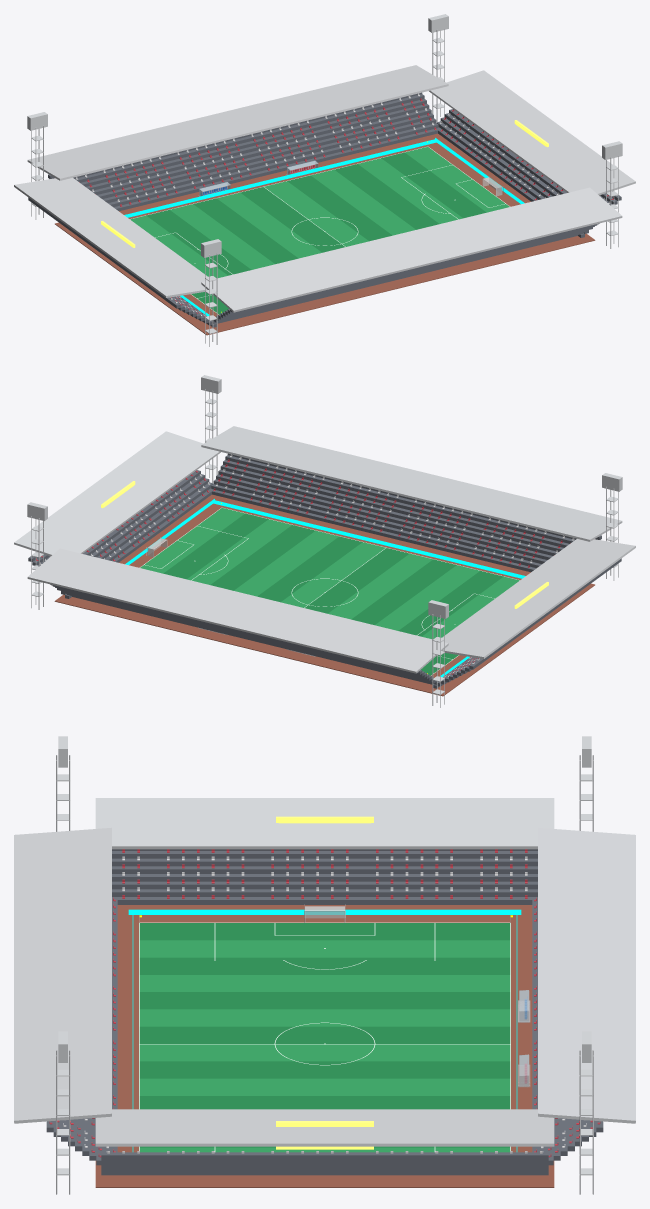
File: dynamic_field_football.glb
3 renders of one model, top to bottom at view 1: azimuth 30°, elevation 25°; view 2: azimuth 150°, elevation 25°; view 3: azimuth 270°, elevation 25°, orthographic. The views are drawn at different scales.
Parts seen in each view (by area): view 1: Stadium_RoofCanopies, Grandstands_Concrete, Pitch_Turf_Light, Pitch_Turf_Dark, Stadium_TrackApron, Stadium_FloodlightTowers, Stadium_LED_Ribbons, Grandstands_Seats_Red, Grandstands_Seats_White, Pitch_ChalkLines; view 2: Stadium_RoofCanopies, Grandstands_Concrete, Pitch_Turf_Light, Pitch_Turf_Dark, Stadium_TrackApron, Stadium_FloodlightTowers, Stadium_LED_Ribbons, Grandstands_Seats_Red, Grandstands_Seats_White, Pitch_ChalkLines; view 3: Stadium_RoofCanopies, Pitch_Turf_Dark, Grandstands_Concrete, Pitch_Turf_Light, Stadium_TrackApron, Stadium_FloodlightTowers, Stadium_LED_Ribbons, Grandstands_Seats_Red, Pitch_ChalkLines, Stadium_Jumbotrons, Grandstands_Seats_White, Dugouts_Shelters.
Part boxes in pixels (box(x1,y1,x2,y2)): Stadium_RoofCanopies: box(14, 65, 635, 312); Grandstands_Concrete: box(28, 92, 621, 327); Pitch_Turf_Light: box(130, 147, 509, 277); Pitch_Turf_Dark: box(146, 152, 486, 314); Stadium_TrackApron: box(55, 133, 595, 335); Stadium_FloodlightTowers: box(27, 14, 622, 346); Stadium_LED_Ribbons: box(124, 138, 524, 316); Grandstands_Seats_Red: box(79, 98, 613, 316); Grandstands_Seats_White: box(75, 93, 617, 315); Pitch_ChalkLines: box(130, 146, 510, 314); Stadium_RoofCanopies: box(14, 426, 635, 673); Grandstands_Concrete: box(28, 453, 621, 688); Pitch_Turf_Light: box(140, 508, 519, 638); Pitch_Turf_Dark: box(163, 513, 503, 675); Stadium_TrackApron: box(54, 494, 594, 696); Stadium_FloodlightTowers: box(27, 375, 622, 707); Stadium_LED_Ribbons: box(125, 499, 525, 677); Grandstands_Seats_Red: box(36, 459, 570, 677); Grandstands_Seats_White: box(32, 454, 574, 676); Pitch_ChalkLines: box(139, 507, 519, 675); Stadium_RoofCanopies: box(14, 798, 635, 1146); Pitch_Turf_Dark: box(139, 923, 510, 1147); Grandstands_Concrete: box(46, 849, 603, 1175); Pitch_Turf_Light: box(139, 940, 510, 1152); Stadium_TrackApron: box(95, 905, 554, 1187); Stadium_FloodlightTowers: box(56, 736, 593, 1194); Stadium_LED_Ribbons: box(128, 909, 521, 1151); Grandstands_Seats_Red: box(49, 849, 600, 1157); Pitch_ChalkLines: box(139, 922, 510, 1151); Stadium_Jumbotrons: box(276, 816, 373, 1149); Grandstands_Seats_White: box(63, 856, 586, 1153); Dugouts_Shelters: box(518, 990, 530, 1087).
Bounding box in the file's own units: 150 × 31.3 × 114.
